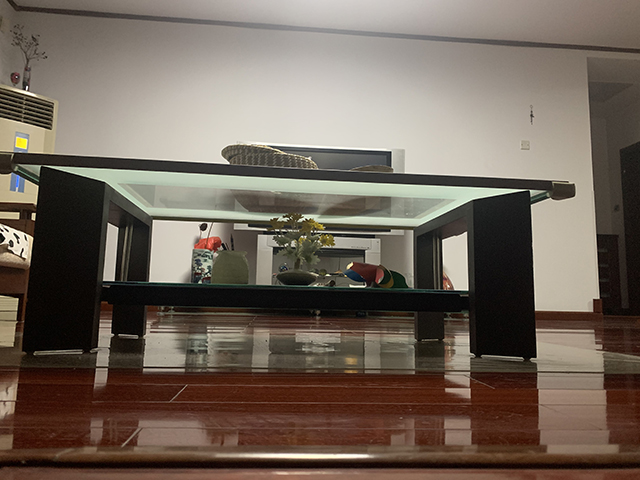table: (1, 143, 577, 362)
